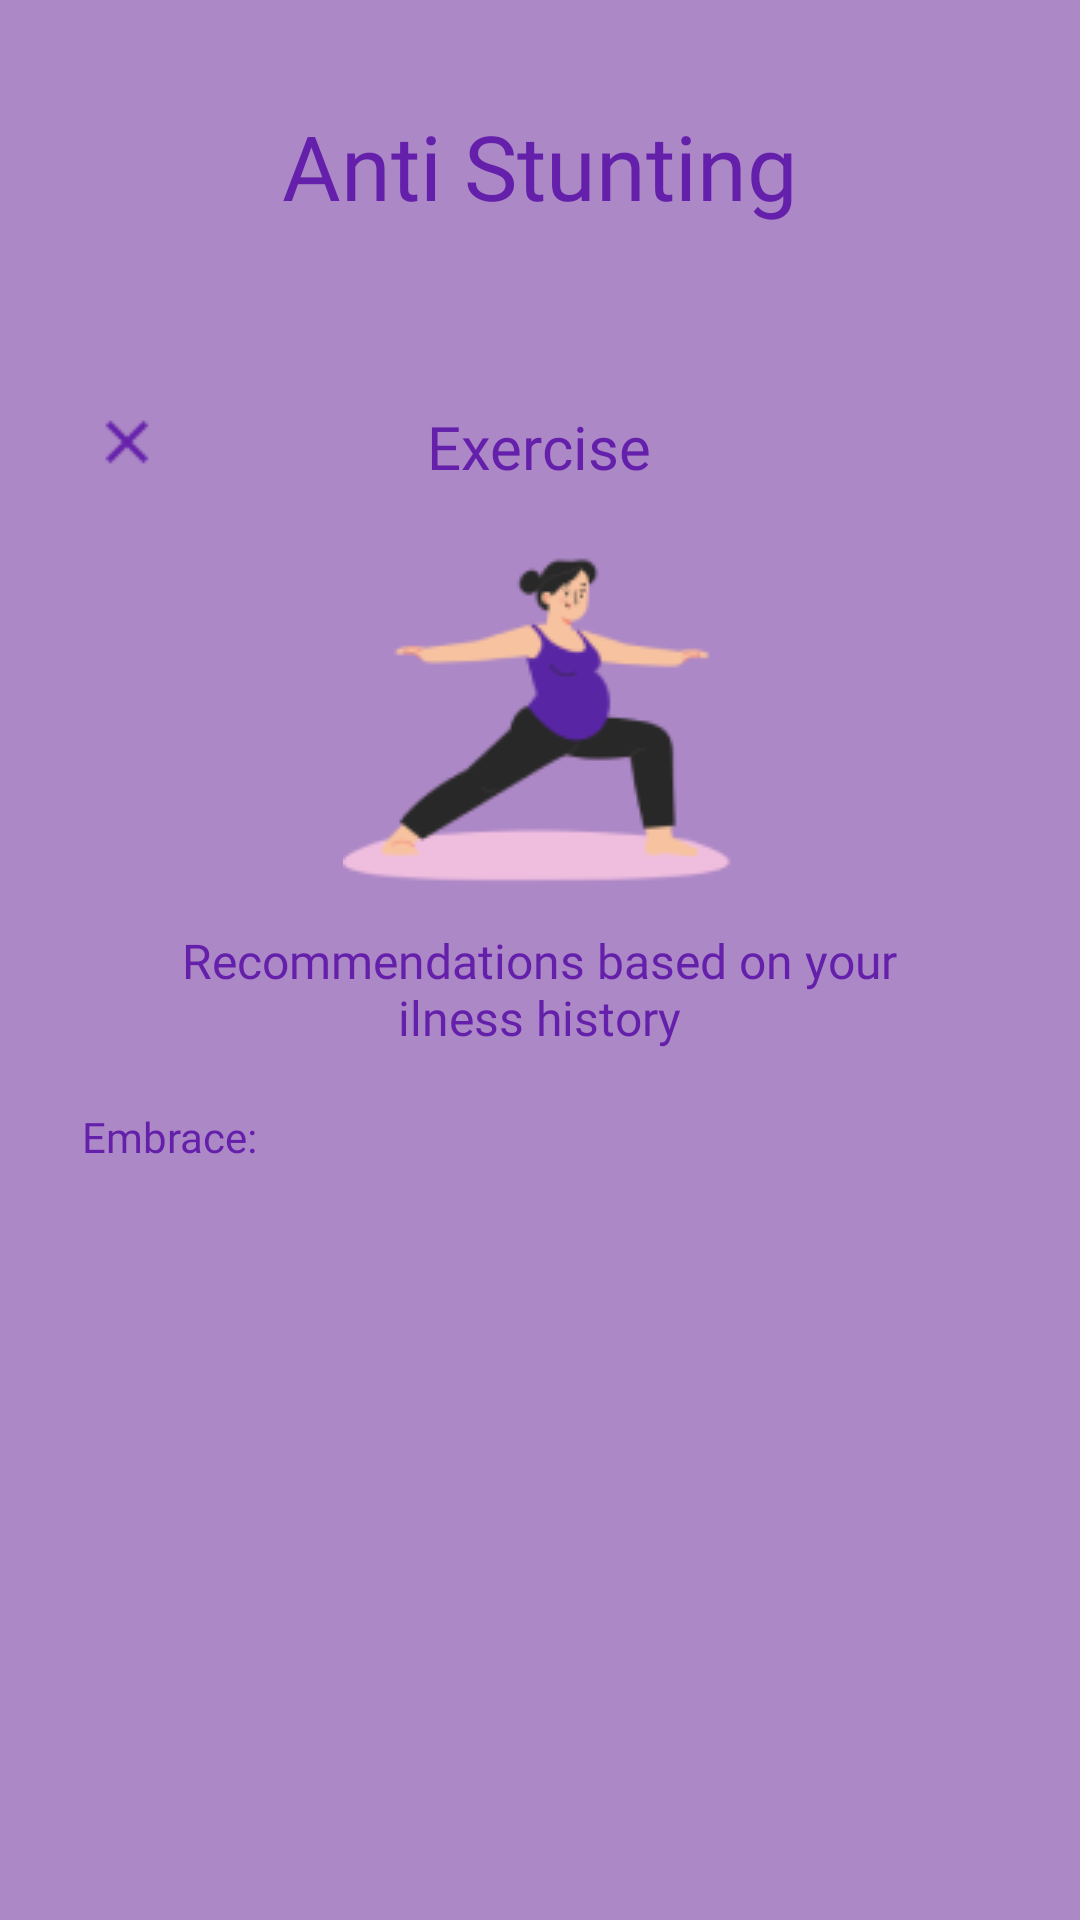

Screen size 1080w x 1920h. Icon name, then its center in pixels as (x=x, y=y):
close: (x=127, y=442)
